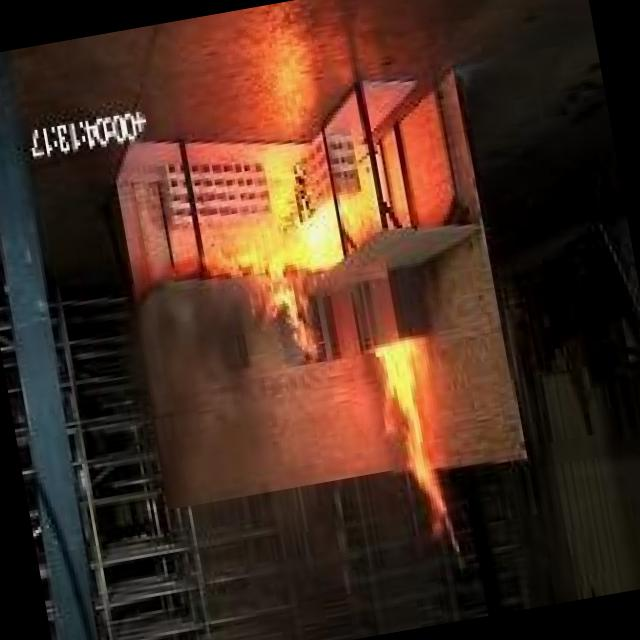fire: (322, 289, 484, 560), (202, 138, 381, 360)
